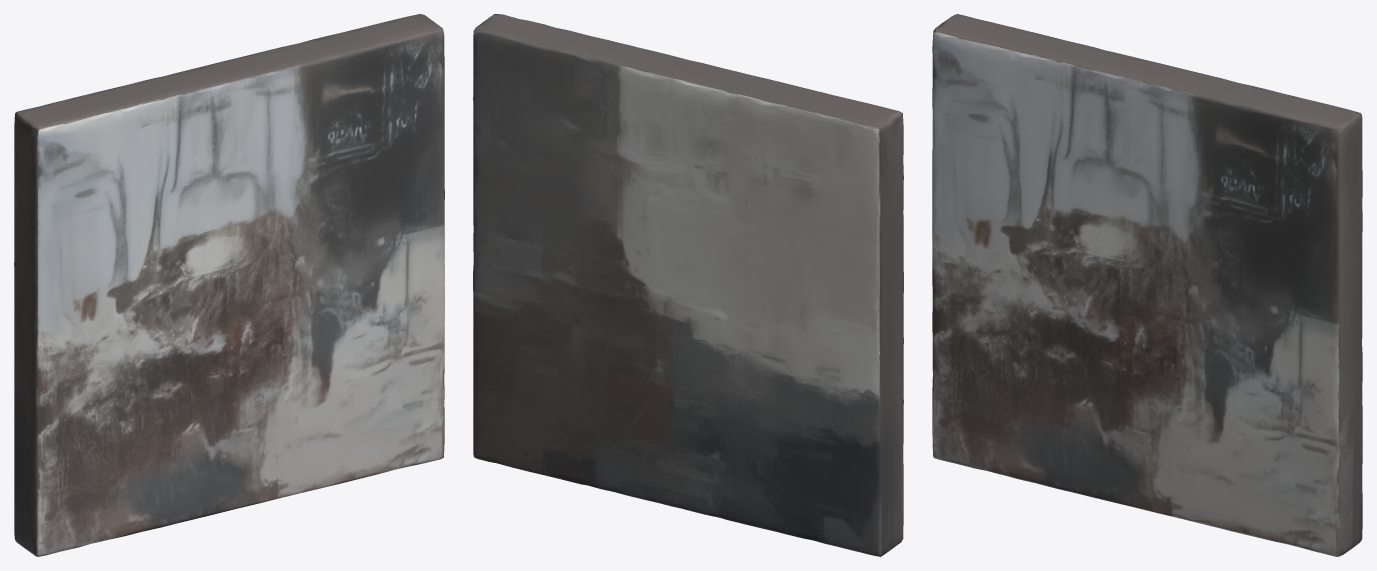
File: facultyoffice_WallArt.glb
The picture shows the model from 3 angles, left to right: view 1: azimuth 30°, elevation 25°; view 2: azimuth 150°, elevation 25°; view 3: azimuth 330°, elevation 25°; orthographic projection.
Parts seen in each view (by area): view 1: world; view 2: world; view 3: world.
Boxes of the visible parts, x1=… form: world: x1=14, y1=14, x2=444, y2=556; world: x1=473, y1=14, x2=903, y2=556; world: x1=932, y1=14, x2=1362, y2=556.
Size of the model in its own units: 1 by 1 by 0.104.
1 material, 1 textured.
